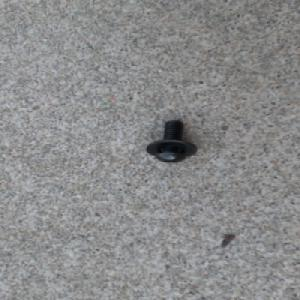BoltWasher: (144, 119, 198, 163)
